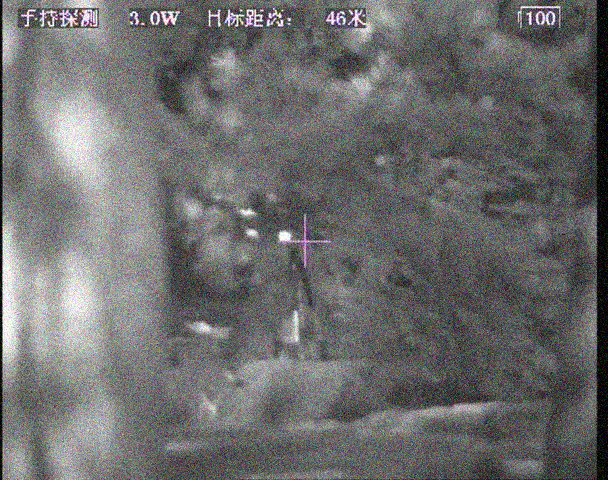my: (278, 229, 292, 242)
